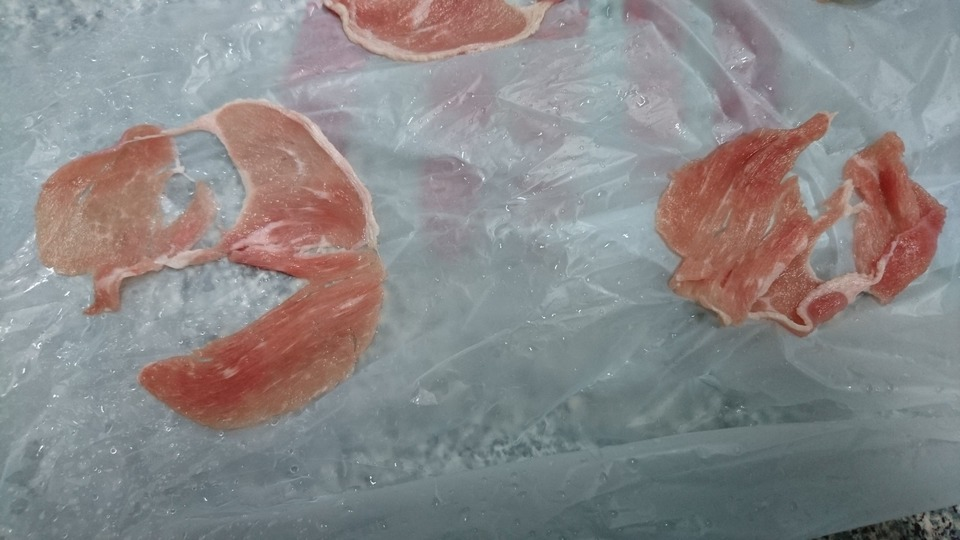restructured meat: (34, 93, 389, 430), (643, 105, 952, 328)
